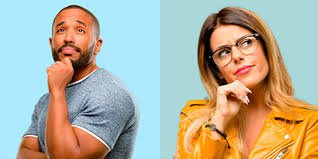noMask: (190, 2, 281, 94), (43, 3, 106, 72)
